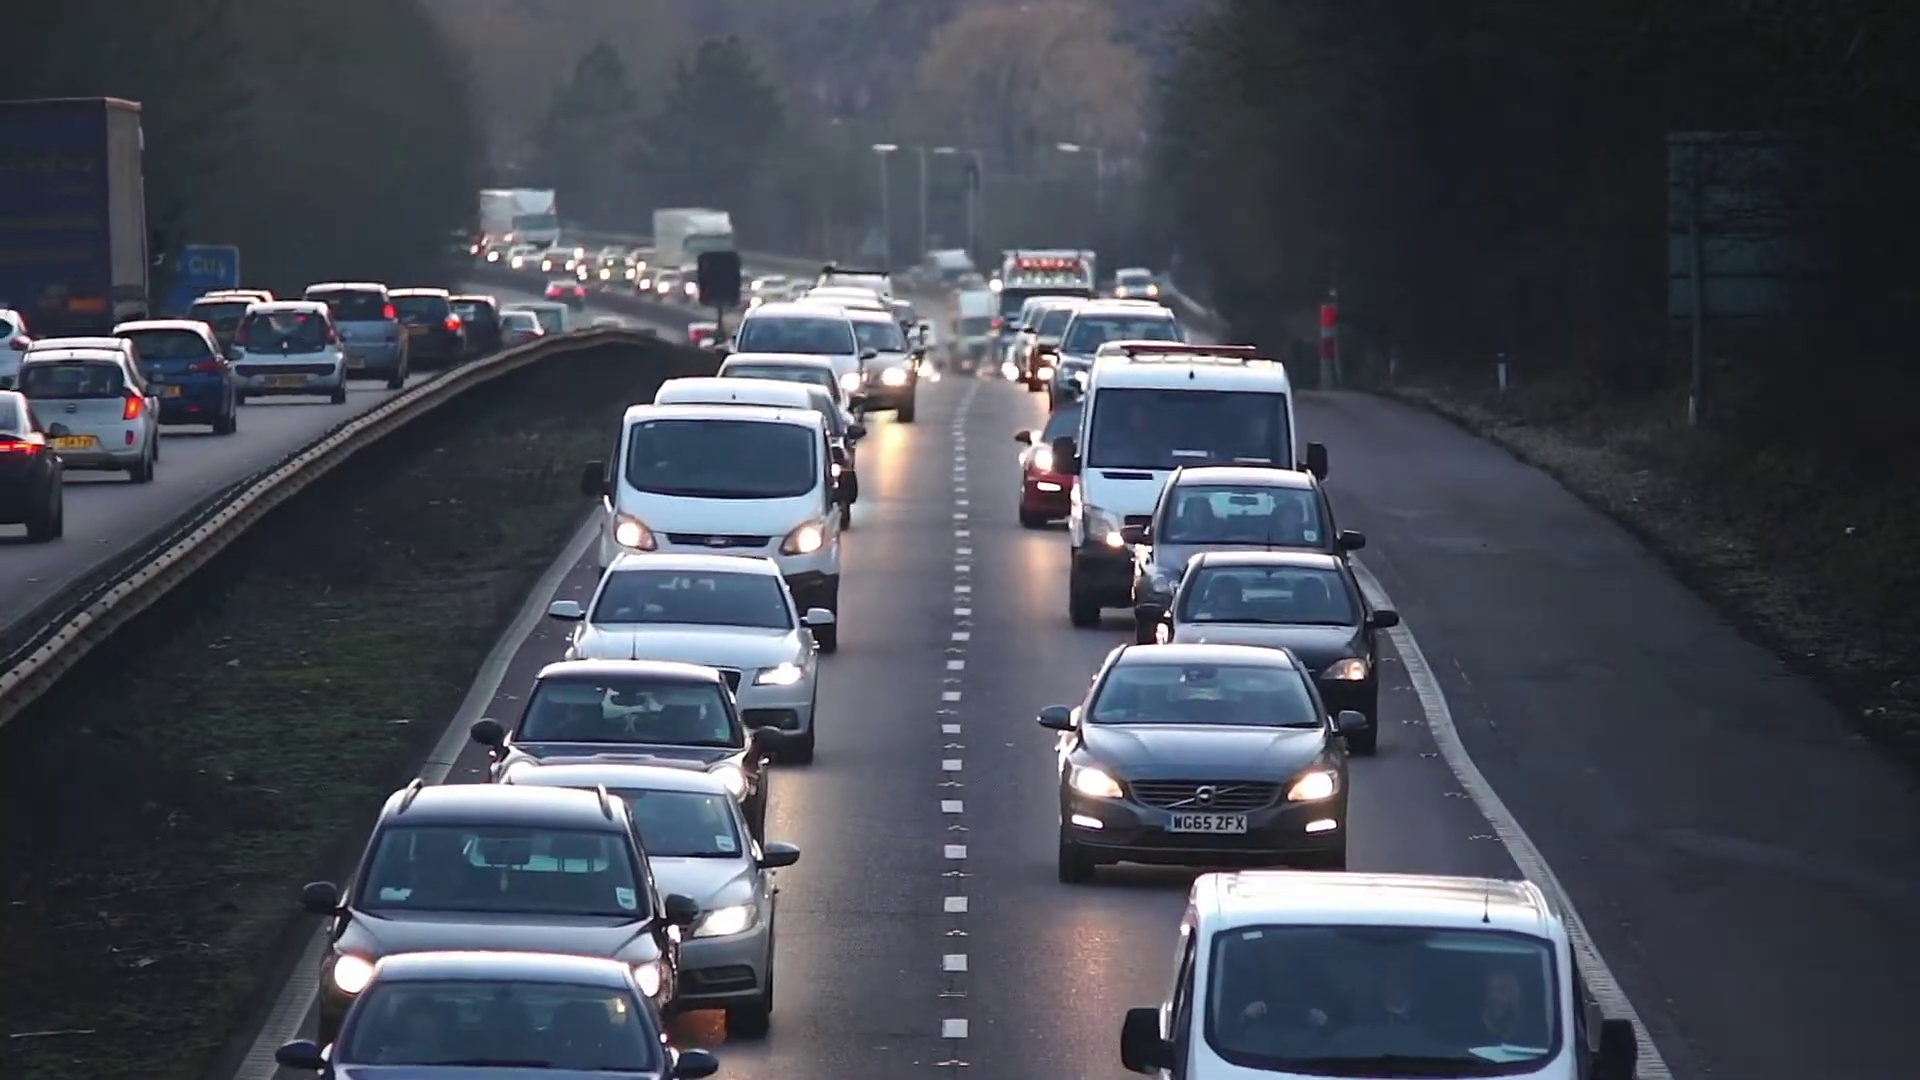license_plate: (1165, 809, 1250, 838)
